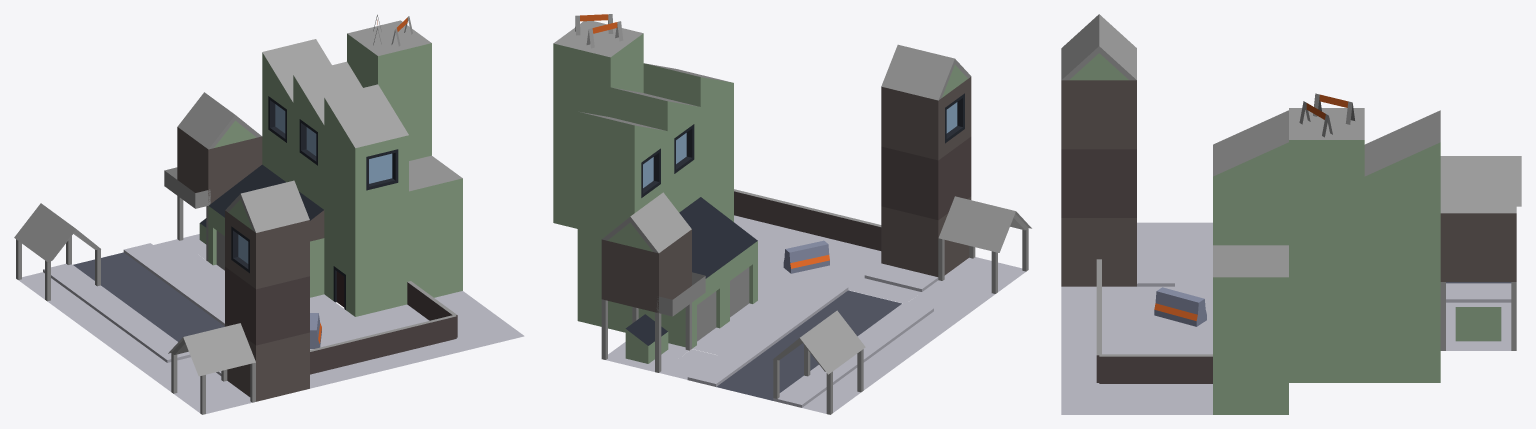
The model's file is slums1.fbx.
3 views of the same model, side by side, from view 1: azimuth 30°, elevation 25°; view 2: azimuth 150°, elevation 25°; view 3: azimuth 270°, elevation 25° (orthographic). The views are drawn at different scales.
Parts seen in each view (by area): view 1: wallB__8_, wallB__4_, wallB_window__2_, wallA_window, wallB_door, wallA_painted, wallB__5_, wallA__1_, wallA, wallB_roofSlant__2_, roadAsphalt_straight__2_, roadAsphalt_straight__1_ (+42 smaller); view 2: wallB__8_, wallA_window, wallB_window, wallA_painted, wallA__1_, wallA, roadAsphalt_straight__3_, roadAsphalt_straight, wallB_roof, roofMetal_typeA__1_, wallA_roof, roadAsphalt_straight__2_ (+46 smaller); view 3: wallB__5_, wallB__8_, wallB__3_, wallB_window, wallB_window__2_, wallB__6_, wallB__7_, wallA_window, wallB, wallA__1_, wallB_door__1_, wallA_painted (+25 smaller).
Part boxes in pixels (box(x1,y1,x2,y2)): wallB__8_: box(347, 20, 431, 108); wallB__4_: box(324, 182, 408, 260); wallB_window__2_: box(324, 126, 408, 204); wallA_window: box(225, 210, 309, 289); wallB_door: box(324, 238, 408, 316); wallA_painted: box(225, 267, 309, 345); wallB__5_: box(409, 155, 462, 247); wallA__1_: box(177, 127, 262, 203); wallA: box(225, 323, 309, 401); wallB_roofSlant__2_: box(324, 84, 408, 148); roadAsphalt_straight__2_: box(74, 266, 212, 316); roadAsphalt_straight__1_: box(105, 288, 224, 339); wallB__8_: box(553, 21, 643, 117); wallA_window: box(881, 77, 971, 160); wallB_window: box(577, 131, 667, 214); wallA_painted: box(881, 137, 971, 220); wallA__1_: box(601, 229, 691, 312); wallA: box(881, 196, 971, 276); roadAsphalt_straight__3_: box(687, 353, 834, 407); roadAsphalt_straight: box(787, 280, 933, 334); wallB_roof: box(881, 44, 971, 100); roofMetal_typeA__1_: box(938, 196, 1031, 252); wallA_roof: box(602, 192, 691, 253); roadAsphalt_straight__2_: box(721, 328, 867, 383); wallB__5_: box(1213, 245, 1288, 346); wallB__8_: box(1289, 108, 1364, 208); wallB__3_: box(1364, 245, 1440, 314); wallB_window: box(1364, 176, 1440, 245); wallB_window__2_: box(1213, 176, 1288, 245); wallB__6_: box(1289, 277, 1364, 346); wallB__7_: box(1289, 208, 1364, 277); wallA_window: box(1061, 80, 1136, 149); wallB: box(1364, 314, 1440, 382); wallA__1_: box(1440, 213, 1516, 281); wallB_door__1_: box(1213, 346, 1288, 414); wallA_painted: box(1061, 149, 1136, 217).
Size of the model in its own units: 303 by 215 by 303.
